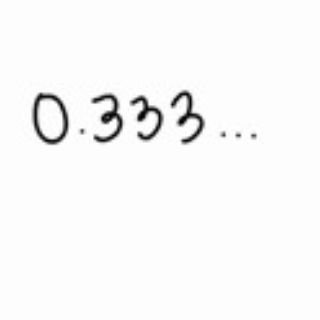.: (77, 124, 87, 137)
0: (31, 86, 71, 146)
3: (169, 87, 207, 147), (88, 91, 126, 146), (127, 91, 164, 144)
